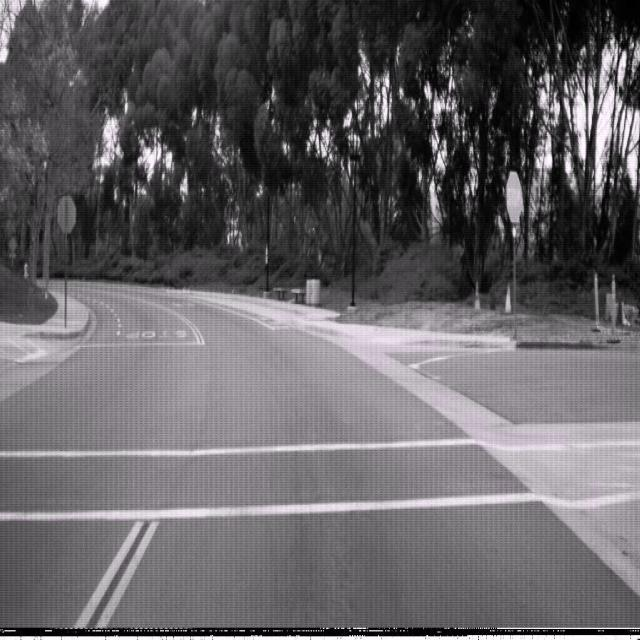stop_sign: (506, 169, 523, 223)
